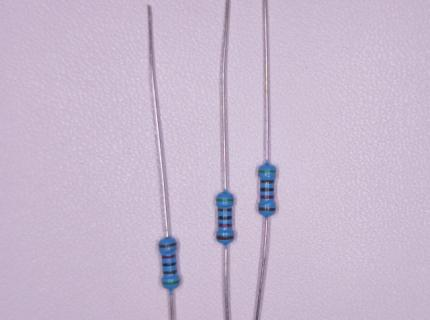Black band: (162, 261, 177, 267), (218, 215, 232, 220), (260, 187, 274, 192)
Brown band: (159, 242, 177, 248), (216, 235, 234, 240), (163, 270, 178, 275), (258, 207, 276, 211), (260, 180, 275, 184), (218, 208, 232, 212)
Green band: (162, 279, 181, 286), (216, 198, 234, 202), (258, 170, 277, 173)
Red band: (218, 223, 233, 228), (260, 195, 275, 200), (161, 255, 176, 259)
